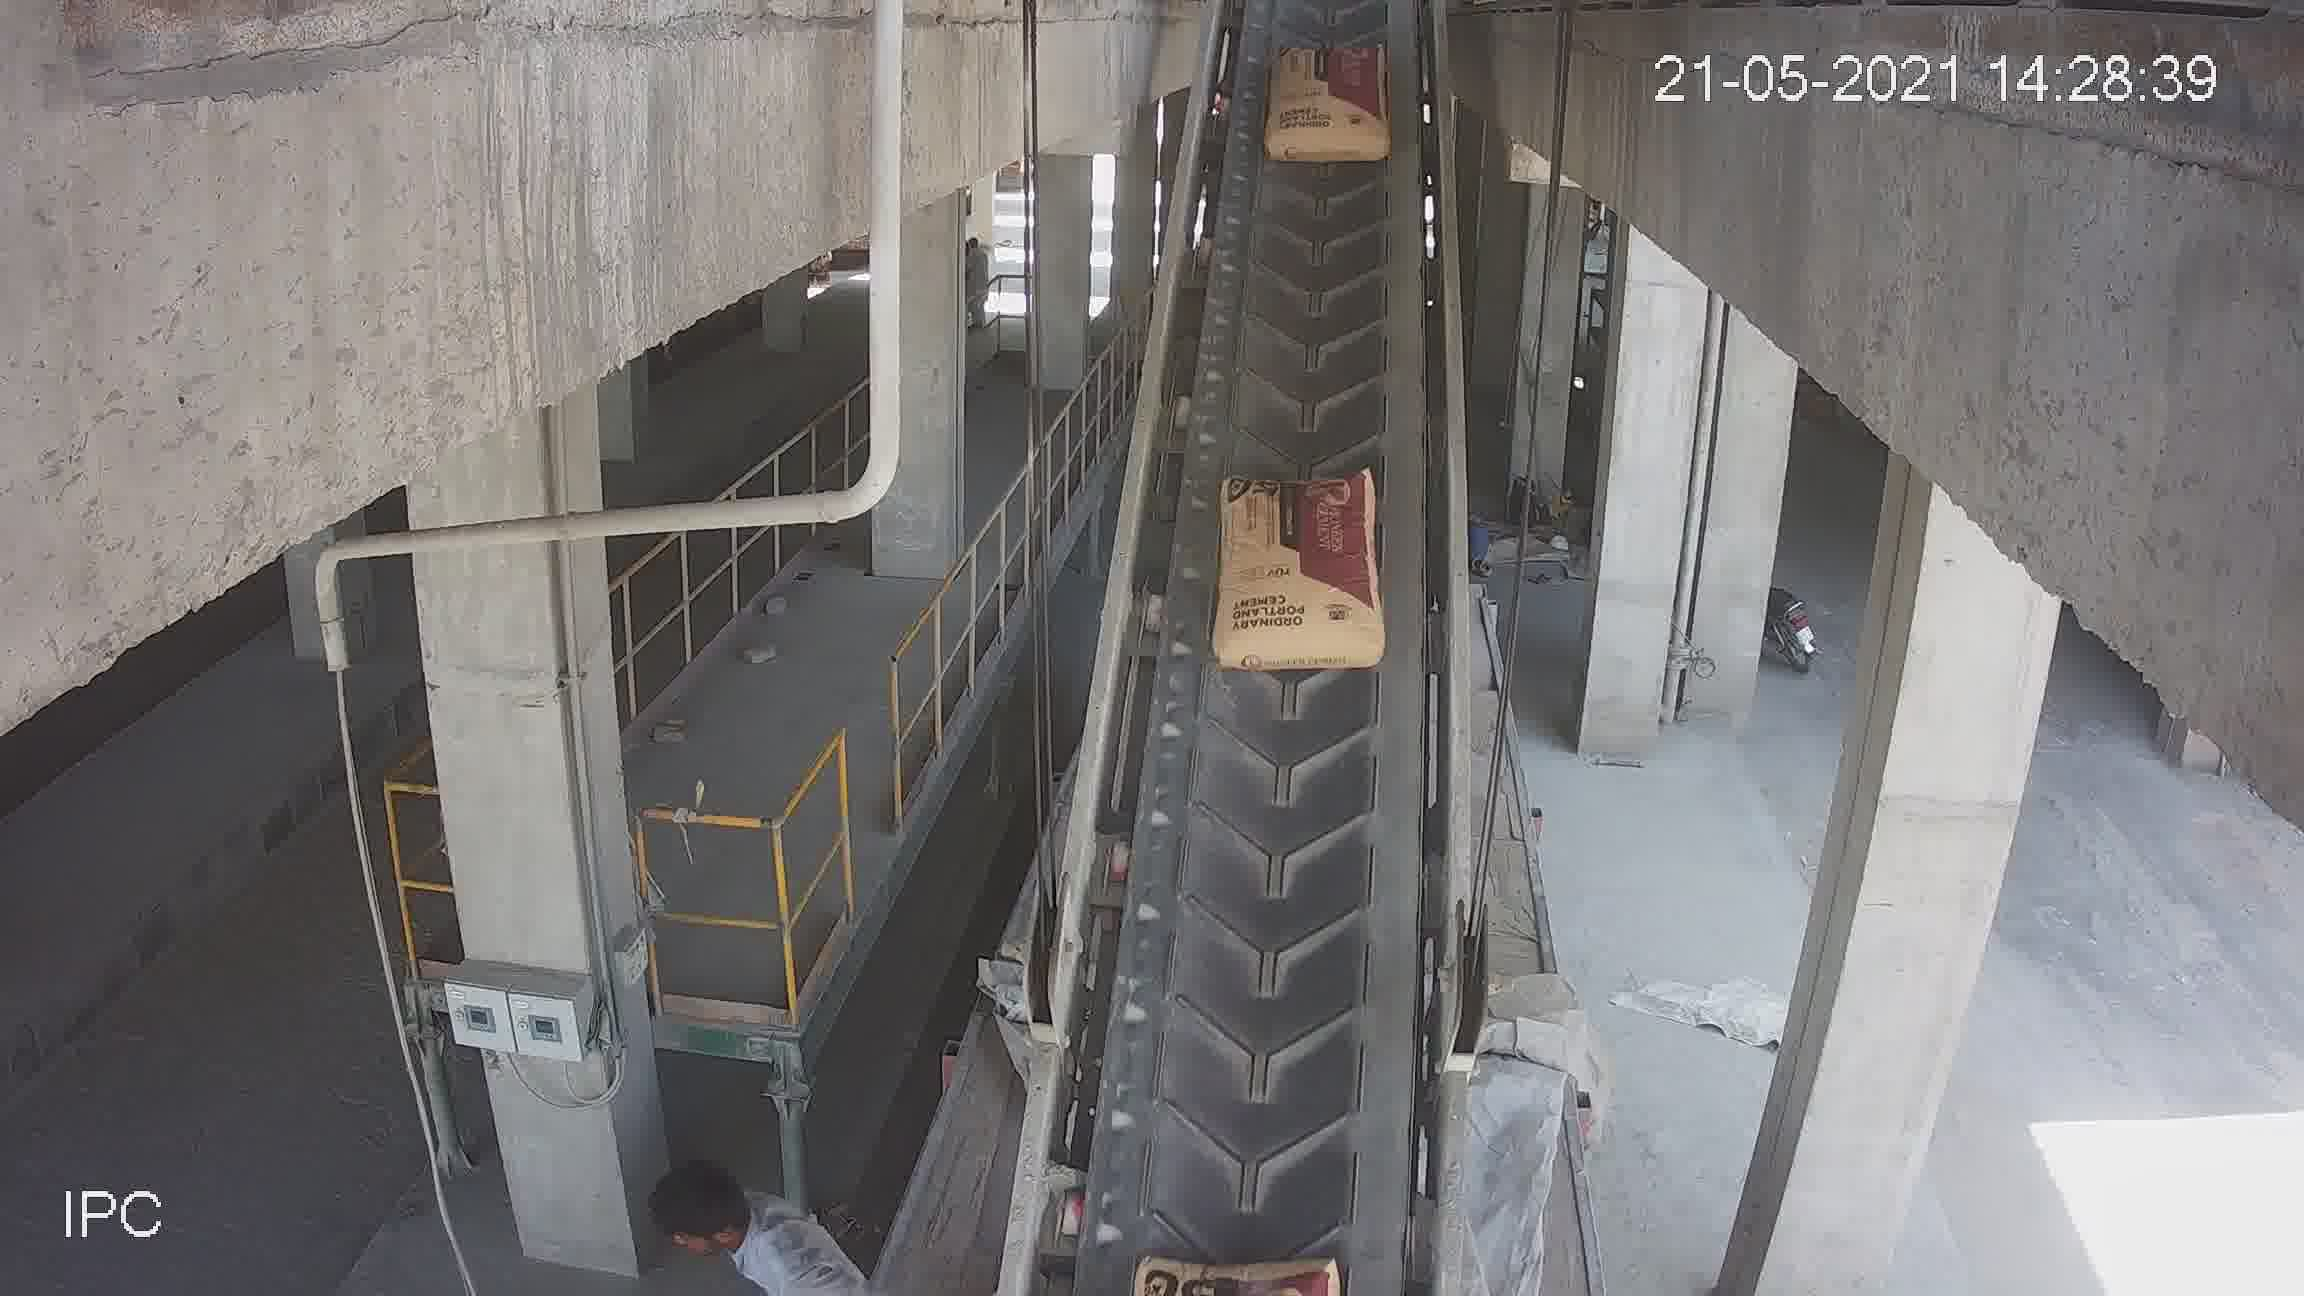bag: (1226, 484, 1380, 671), (1264, 49, 1389, 161)
belt: (1038, 21, 1473, 1252)
